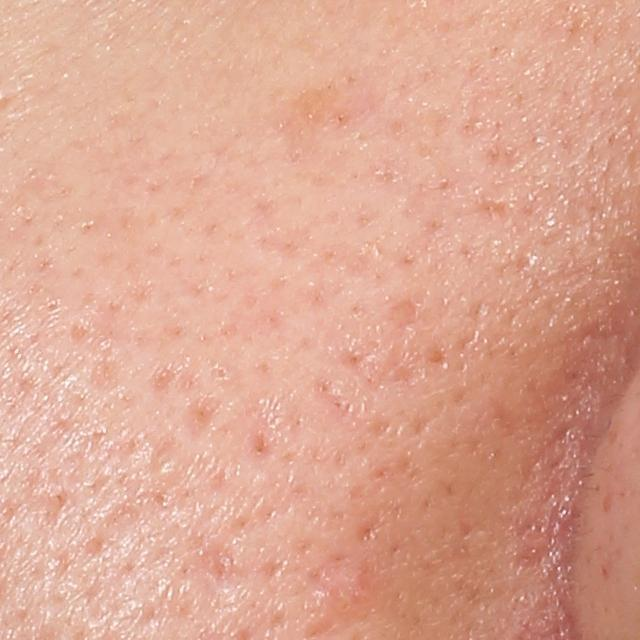atrophic_scar: (174, 393, 226, 447)
